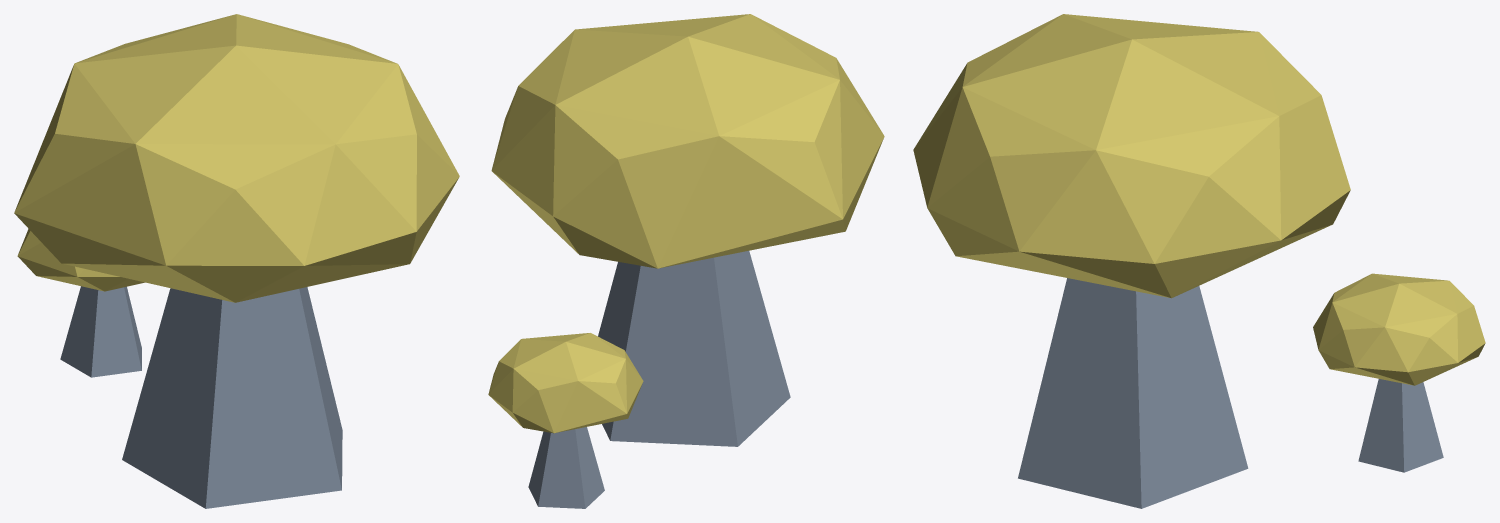
Rendered from Sc_phongos_.fbx.
3 renders of one model, left to right at view 1: azimuth 30°, elevation 25°; view 2: azimuth 150°, elevation 25°; view 3: azimuth 270°, elevation 25°, orthographic. The views are drawn at different scales.
Visible parts, largest first — view 1: Icosphere_002; view 2: Icosphere_002; view 3: Icosphere_002.
Boxes of the visible parts, x1,y1,x2,y2 form: Icosphere_002: [14, 14, 459, 508]; Icosphere_002: [488, 14, 884, 508]; Icosphere_002: [913, 14, 1485, 508].
Bounding box in the file's own units: 162 × 165 × 206.
